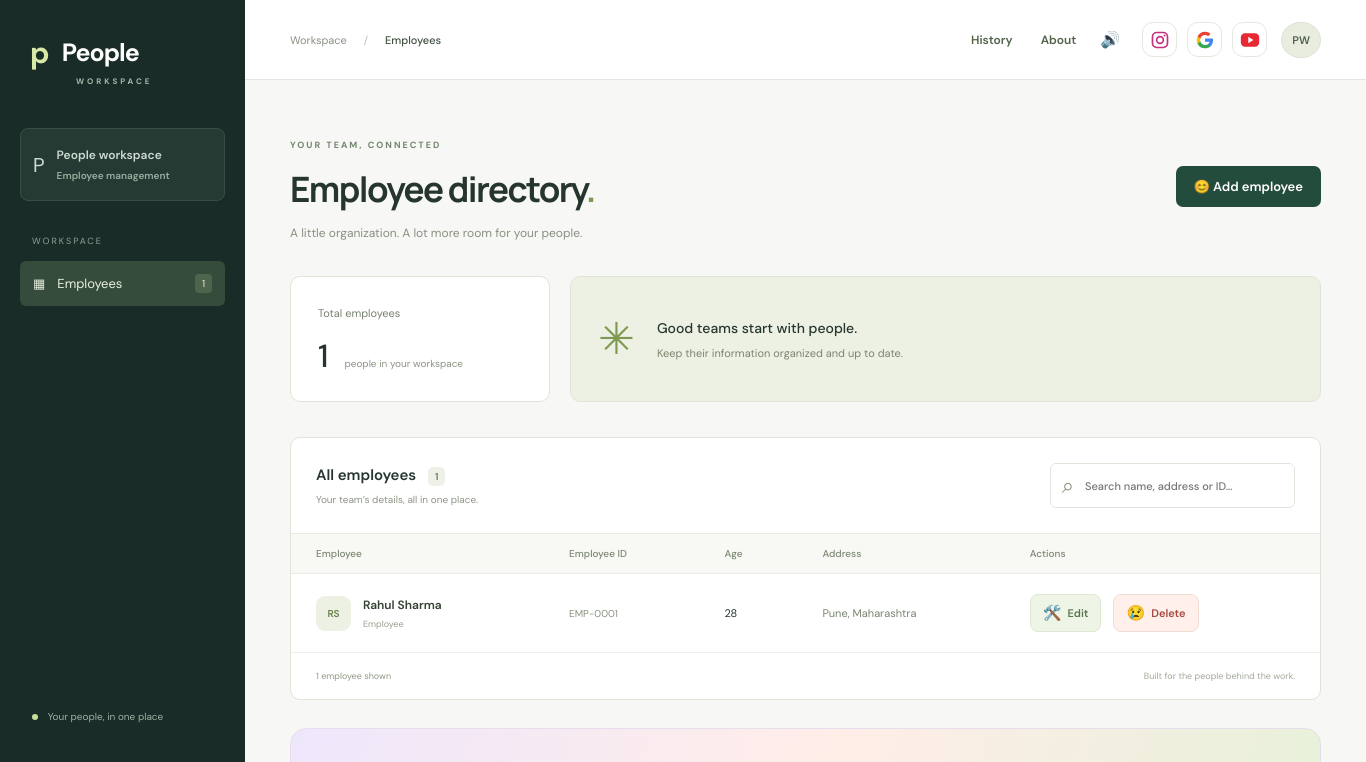
shows about and supports muting click sounds
The width and height of the screenshot is (1366, 762).
Click the button named "Click sounds".
click(1110, 40)  # box [1092,21,1128,58]
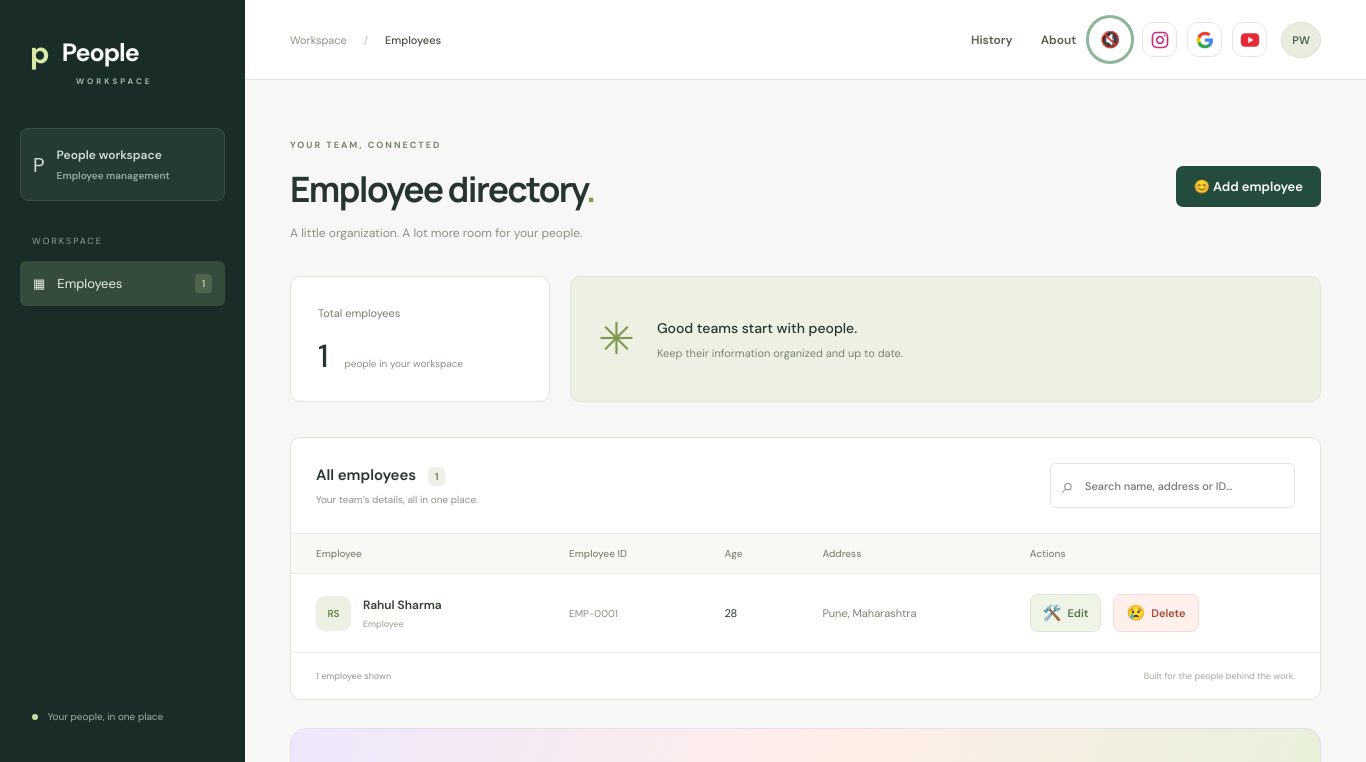
expect the button named "Click sounds" is not pressed: met, box [1092,21,1128,58]
Click the button "About".
click(1059, 40)  # box [1029,22,1088,56]
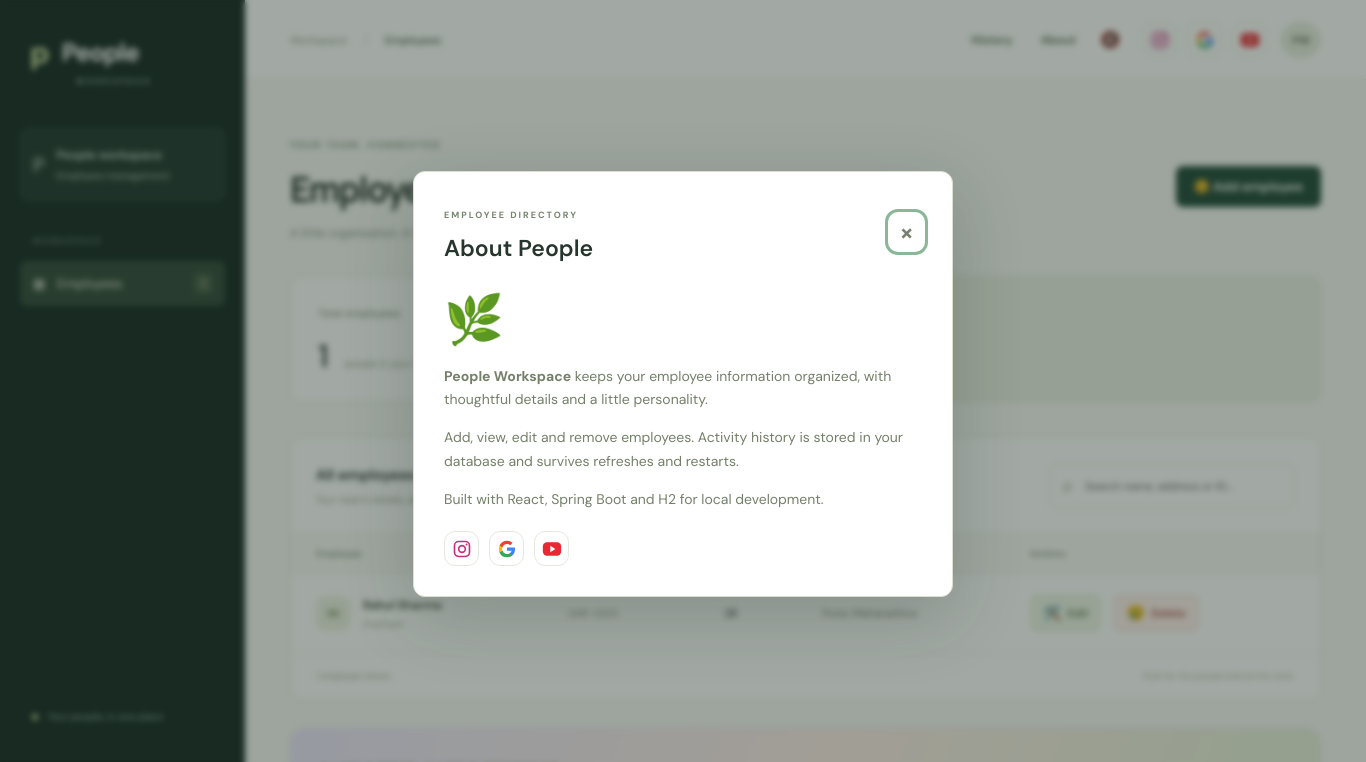
expect the heading "About People" is shown: met, box [444,232,593,262]
